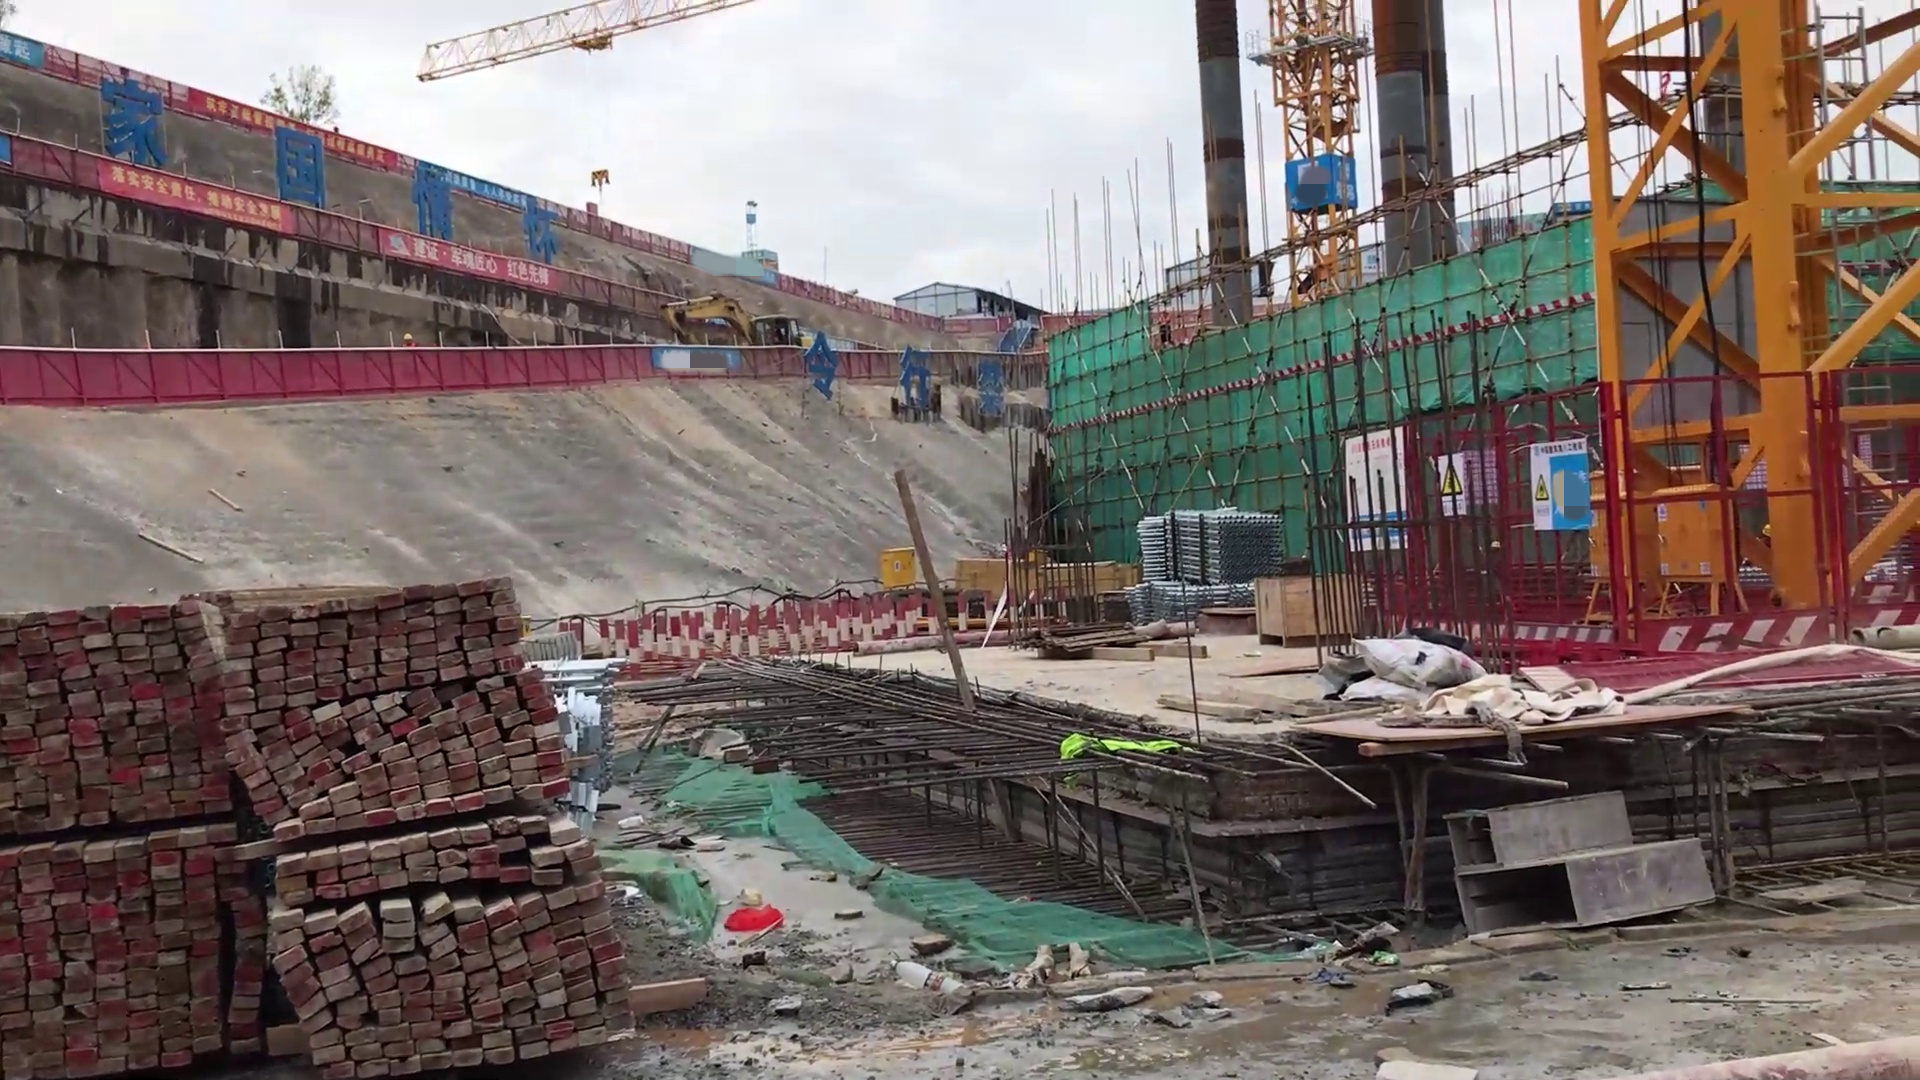ebox: (1654, 479, 1754, 633), (1586, 467, 1656, 624), (880, 545, 916, 589)
fence: (1, 336, 295, 414)
hook: (589, 167, 611, 193)
scaffold: (1141, 508, 1300, 578)
slogan: (44, 38, 410, 178), (103, 150, 297, 229), (386, 223, 556, 289), (1348, 430, 1407, 545), (1528, 438, 1586, 535), (1436, 454, 1476, 518)
wood: (15, 592, 629, 1069), (1247, 570, 1358, 651), (1044, 553, 1130, 603)
